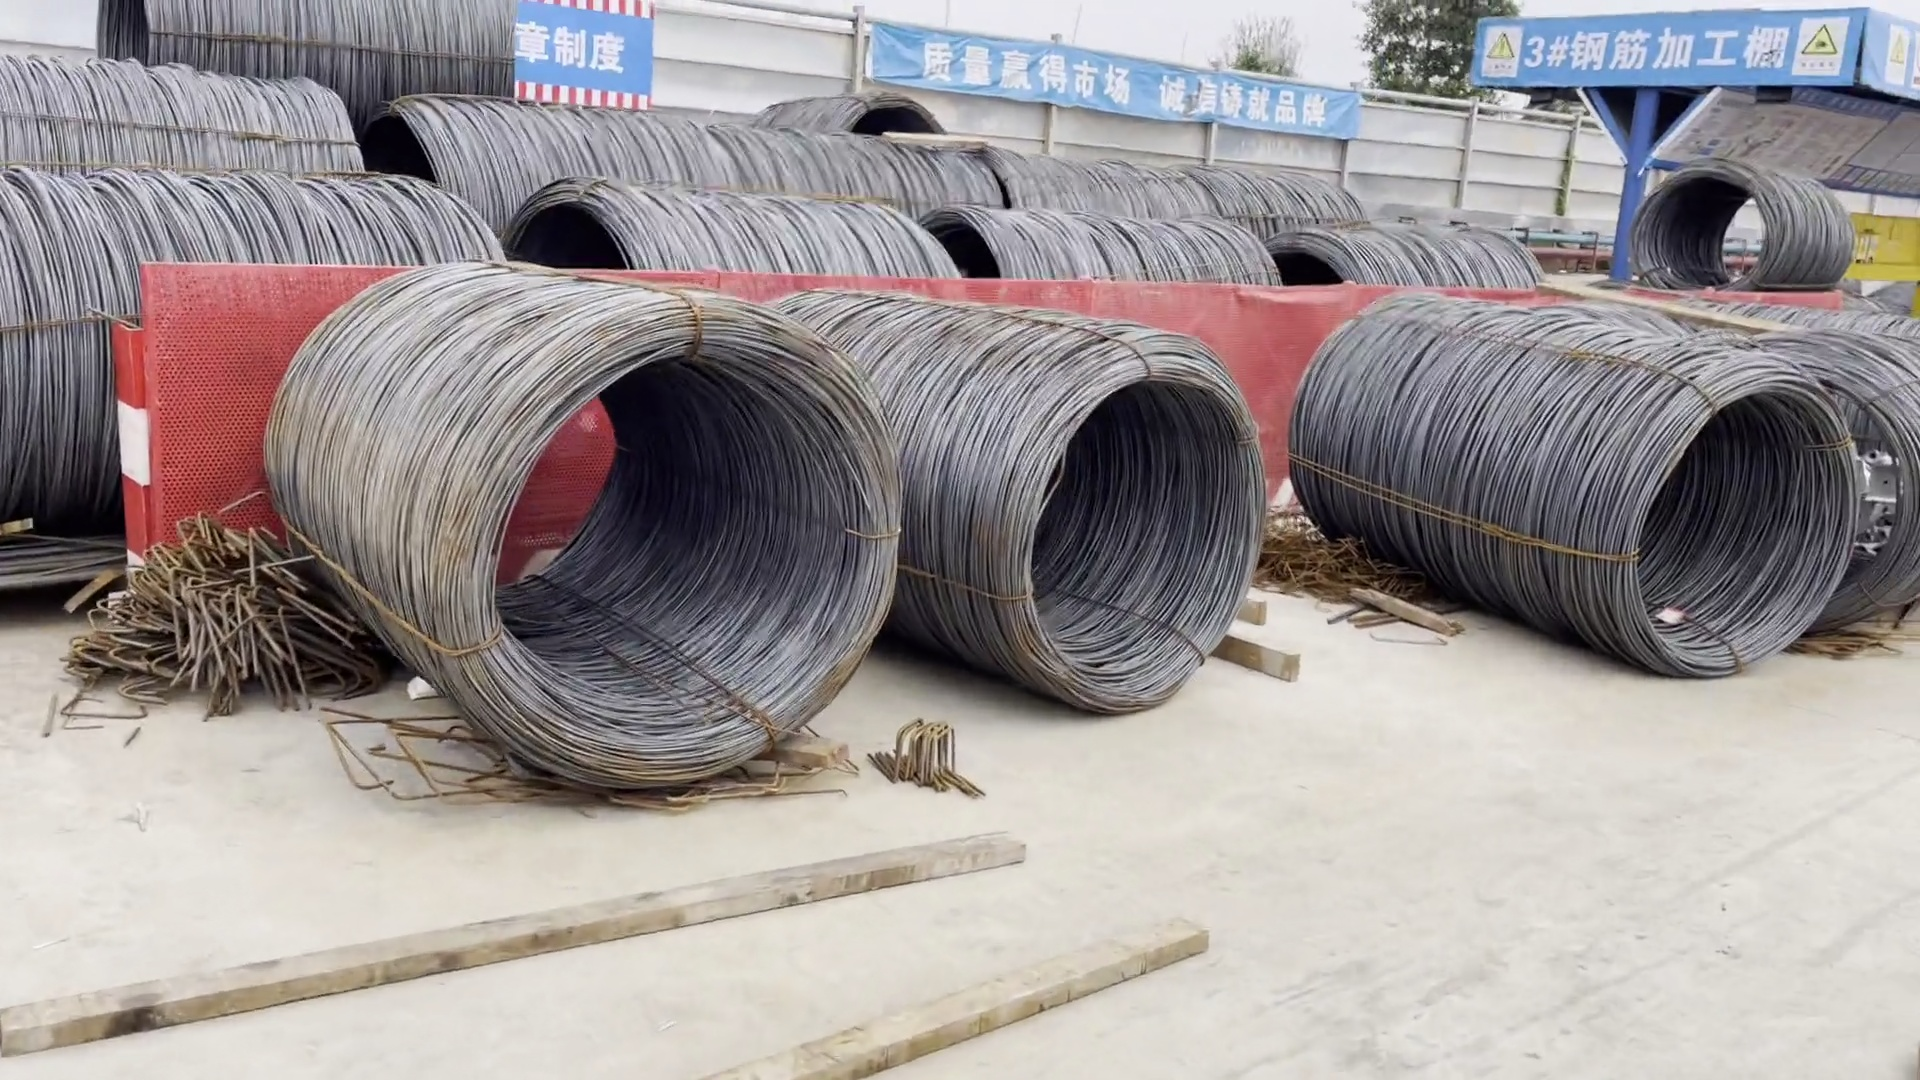slogan: (920, 37, 1335, 138)
